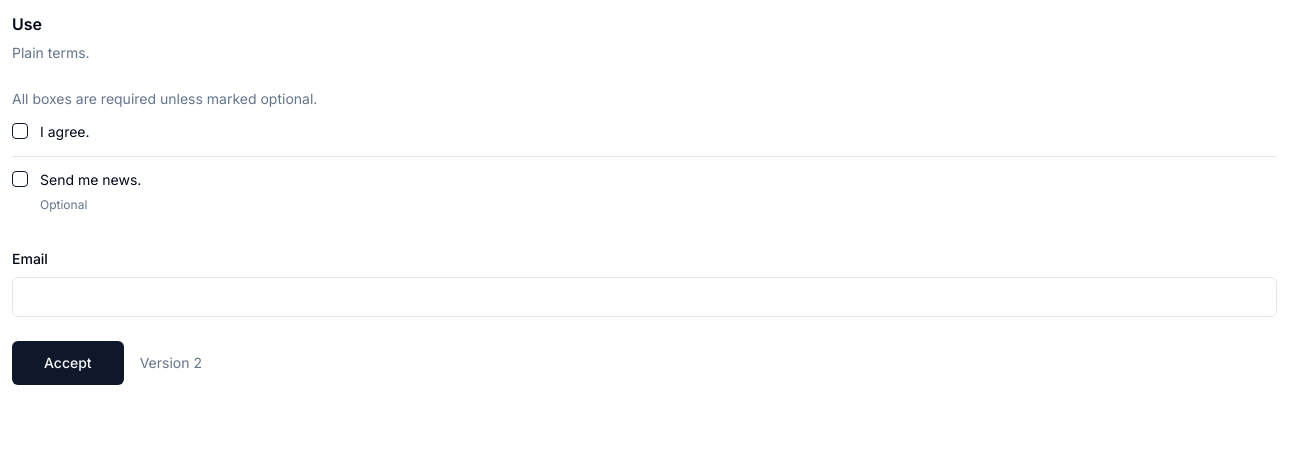
Scenario: AcceptTerms › blocks until the required box is ticked and an email is entered
The image size is (1292, 456).
expect the text "Plain terms." is shown: met, box [12,44,90,61]
What coordinates should you click on to do the following:
click the button "Accept"
I would click on:
 (68, 362)
Its box is [12,340,124,384].
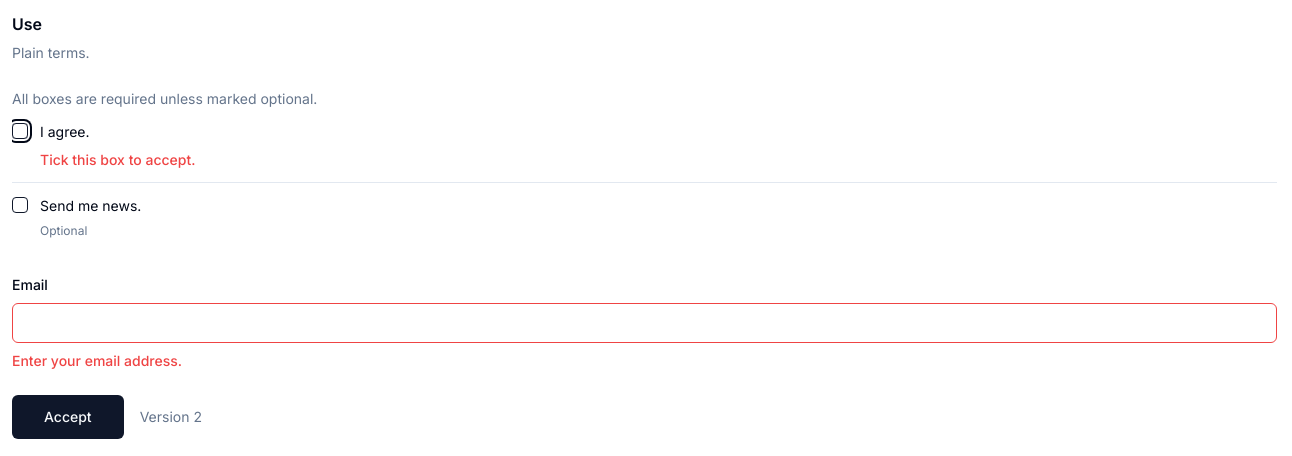
expect the text "Tick this box to accept." is shown: met, box [40,150,196,170]
expect the text "Enter your email address." is shown: met, box [12,352,182,368]
